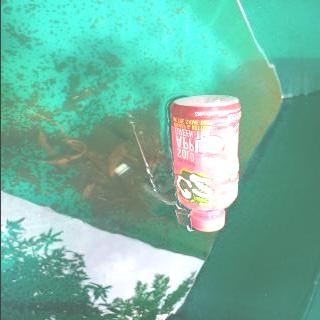bottle: (166, 94, 242, 233)
